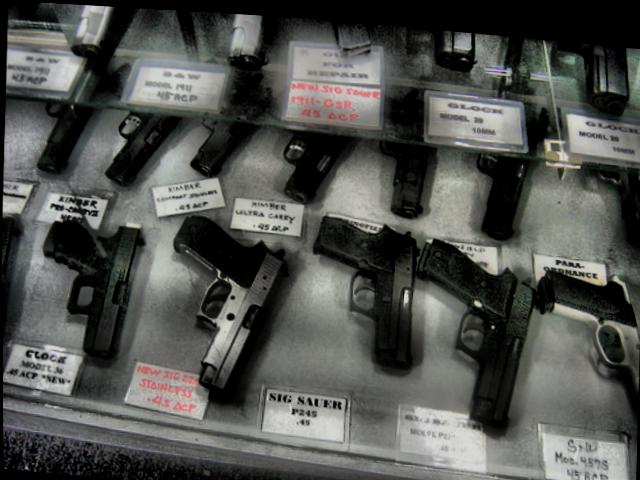pistol: (165, 208, 296, 398), (411, 229, 529, 439), (530, 250, 640, 408), (311, 211, 419, 364), (36, 213, 146, 357), (339, 76, 442, 210), (264, 68, 359, 200), (100, 47, 185, 185), (183, 46, 264, 178), (551, 36, 640, 115), (427, 25, 485, 77)
